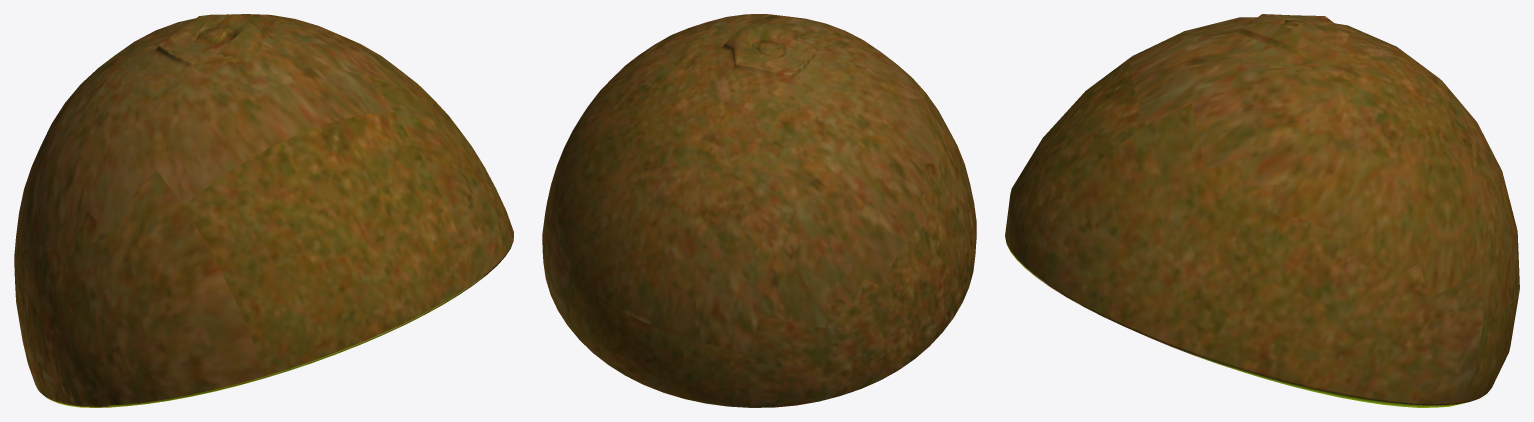
File: kiwi_slice.obj
3 views of the same model, side by side, from view 1: azimuth 30°, elevation 25°; view 2: azimuth 150°, elevation 25°; view 3: azimuth 270°, elevation 25° (orthographic). The views are drawn at different scales.
Parts seen in each view (by area): view 1: pSphere6.005_Untitled.013; view 2: pSphere6.005_Untitled.013; view 3: pSphere6.005_Untitled.013.
Part boxes in pixels (left/top/right/bottom): pSphere6.005_Untitled.013: left=14, top=14, right=513, bottom=407; pSphere6.005_Untitled.013: left=542, top=14, right=976, bottom=407; pSphere6.005_Untitled.013: left=1005, top=14, right=1519, bottom=407.
Bounding box in the file's own units: 0.1362 × 0.109 × 0.1405.
1 material, 1 textured.
